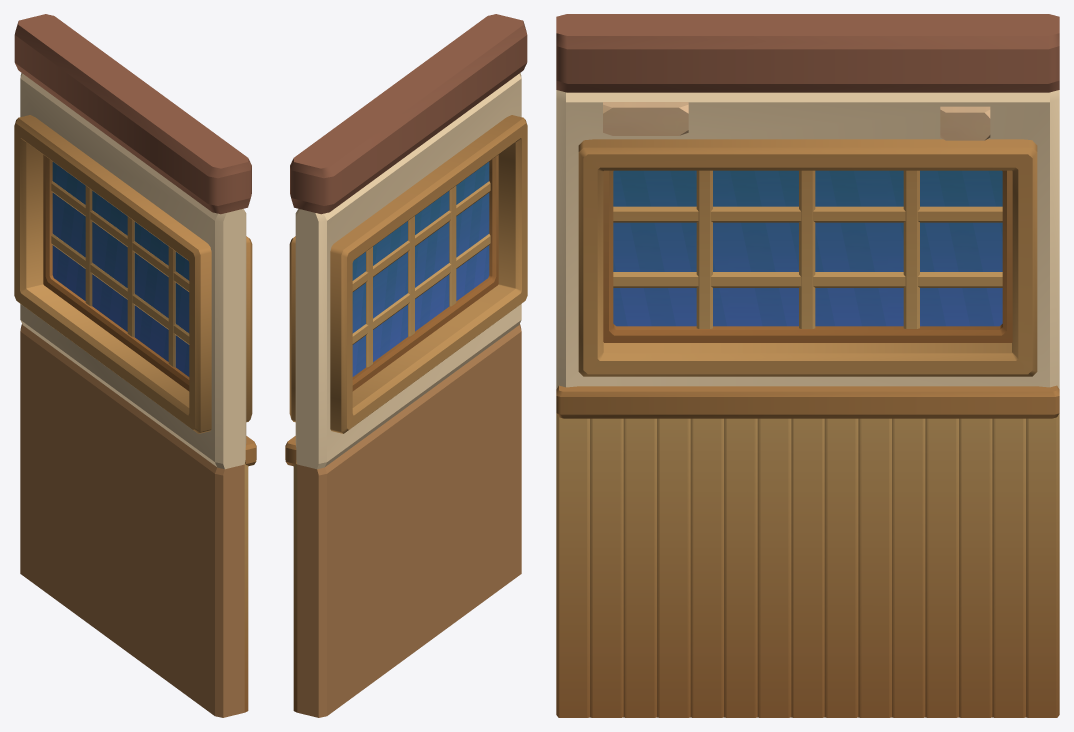
The model's file is Wall_B_19.glb.
3 renders of one model, left to right at view 1: azimuth 30°, elevation 25°; view 2: azimuth 150°, elevation 25°; view 3: azimuth 270°, elevation 25°, orthographic. The views are drawn at different scales.
Visible parts, largest first — view 1: Wall_B_19; view 2: Wall_B_19; view 3: Wall_B_19.
Part boxes in pixels (bbox=[...]): Wall_B_19: bbox=[14, 14, 256, 717]; Wall_B_19: bbox=[285, 14, 527, 717]; Wall_B_19: bbox=[556, 14, 1059, 717].
Bounding box in the file's own units: 0.3277 × 3 × 2.
Materials: 2 (2 with a texture image).
